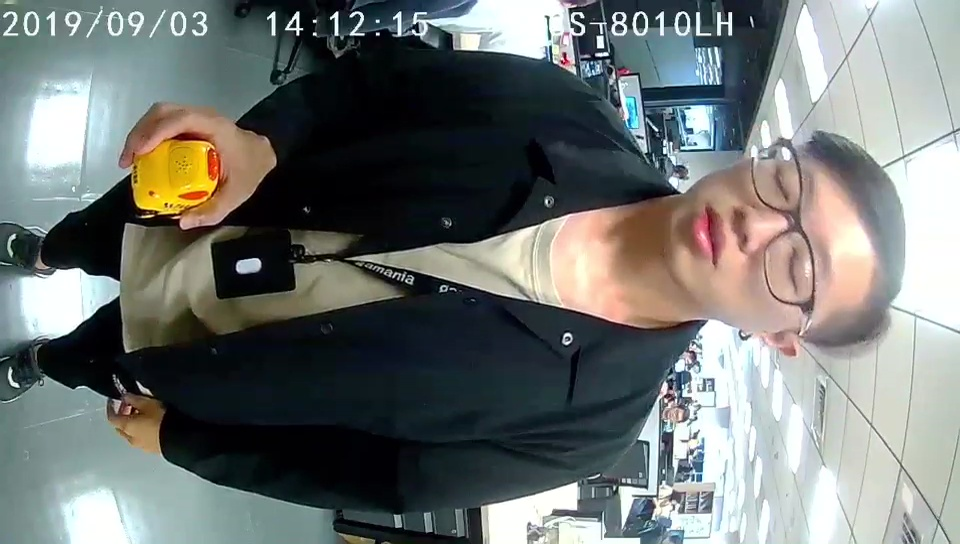car: (131, 141, 217, 214)
